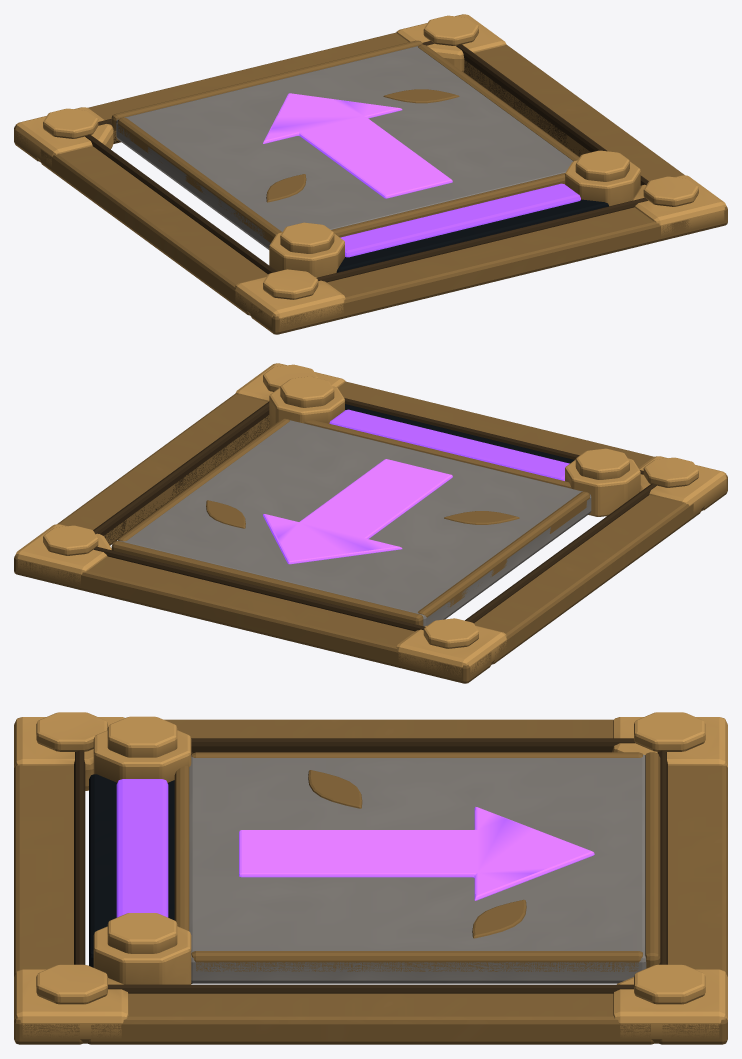
File: board_spring_2.glb
The picture shows the model from 3 angles, top to bottom: view 1: azimuth 30°, elevation 25°; view 2: azimuth 150°, elevation 25°; view 3: azimuth 270°, elevation 25°; orthographic projection. The views are drawn at different scales.
Parts seen in each view (by area): view 1: Plate, Gold1, Gold3, Arrow, Gold2, Glow, Gold0, Channel, Bolt3, GoldLine2, PlateEdge3, GoldLine1 (+17 smaller); view 2: Plate, Gold0, Gold3, Arrow, Gold2, Gold1, Glow, PlateEdge0, GoldLine2, Bolt1, PlateEdge3, Bolt0 (+18 smaller); view 3: Plate, Gold2, Arrow, Gold1, Gold0, Gold3, PlateEdge2, Glow, GoldLine3, Channel, Bolt0, Bolt2 (+18 smaller).
Part boxes in pixels (x1,y1,x2,y2): Plate: (116, 46, 573, 249); Gold1: (250, 206, 727, 334); Gold3: (40, 146, 267, 315); Arrow: (263, 93, 452, 198); Gold2: (464, 44, 684, 180); Glow: (340, 183, 580, 257); Gold0: (14, 32, 408, 161); Channel: (336, 199, 608, 272); Bolt3: (235, 276, 345, 329); GoldLine2: (456, 44, 648, 185); PlateEdge3: (117, 117, 281, 242); GoldLine1: (316, 197, 647, 282); Plate: (118, 420, 591, 626); Gold0: (14, 555, 491, 683); Gold3: (474, 495, 701, 664); Arrow: (263, 459, 452, 564); Gold2: (57, 393, 269, 545); Gold1: (338, 381, 727, 510); Glow: (329, 409, 569, 480); PlateEdge0: (111, 541, 423, 625); GoldLine2: (93, 401, 269, 544); Bolt1: (396, 625, 506, 678); PlateEdge3: (418, 491, 589, 617); Bolt0: (15, 524, 111, 585); Plate: (189, 754, 646, 983); Gold2: (87, 993, 654, 1044); Arrow: (239, 807, 594, 900); Gold1: (14, 765, 82, 1044); Gold0: (659, 765, 727, 1044); Gold3: (164, 719, 613, 753); PlateEdge2: (191, 951, 642, 971); Glow: (116, 779, 168, 917); GoldLine3: (191, 738, 635, 754); Channel: (89, 774, 192, 983); Bolt0: (613, 969, 727, 1043); Bolt2: (14, 969, 128, 1043).
Size of the model in its own units: 1 by 0.105 by 1.
